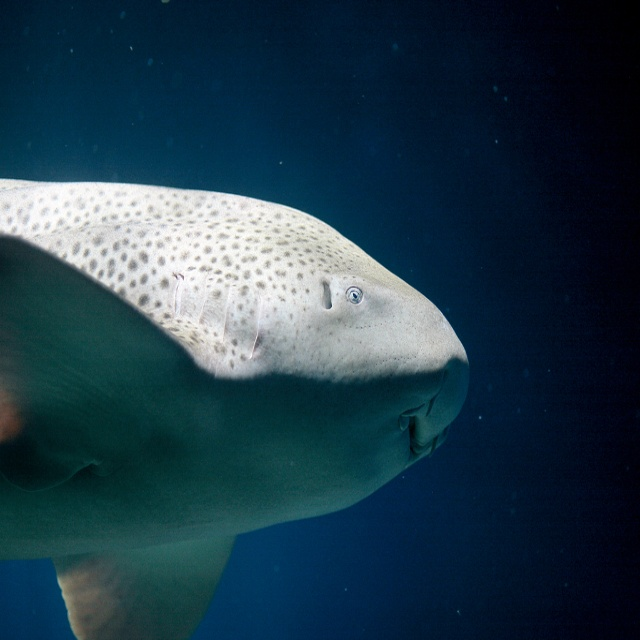Shark: (0, 182, 473, 639)
